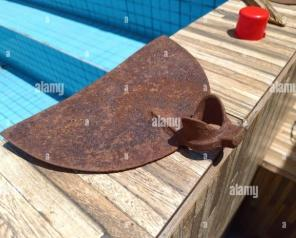HOUE: (0, 32, 258, 175)
